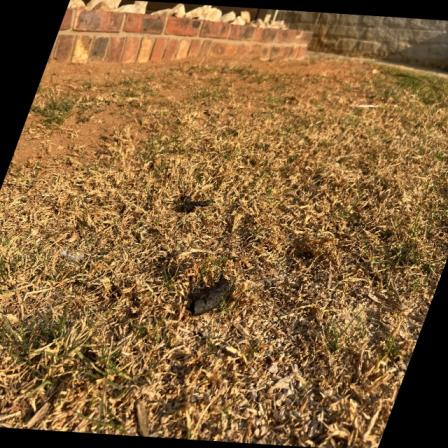dog-poop: (192, 274, 237, 318), (174, 192, 214, 216)
